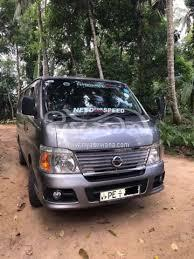van: (15, 71, 172, 220)
